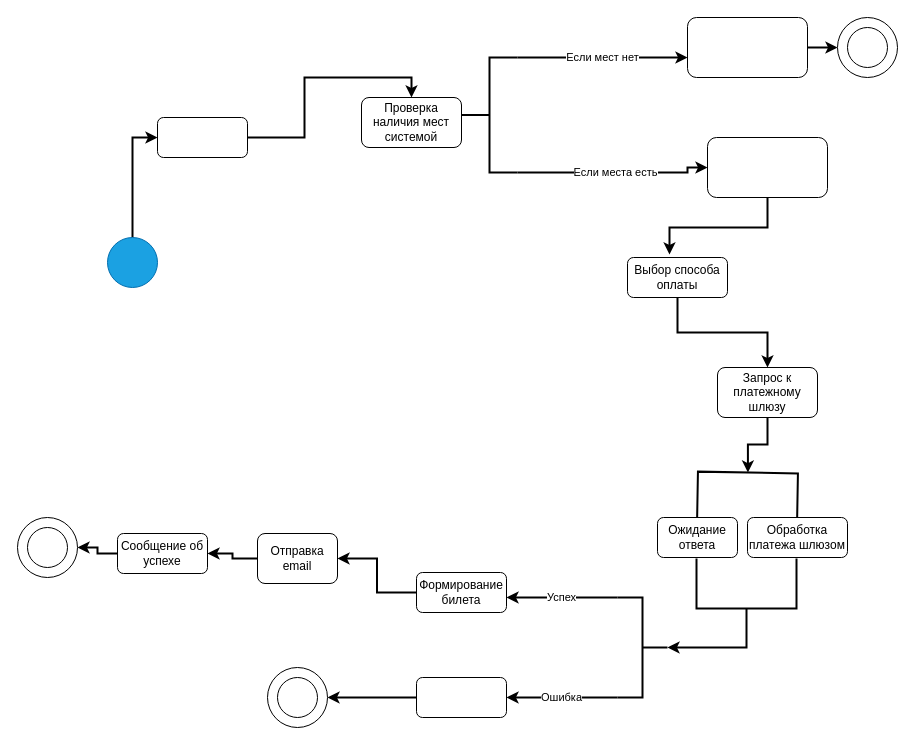
The diagram is 915 pixels wide and 745 high, and some of its shapes have lost their labels. Here are the shapes that lost their labels. From the top down, the centre of each, then its label:
(747,47): Сообщение: "Мест нет"
(202,137): Выбор рейса пассажиром
(767,167): Расчет стоимости
(461,697): Сообщение об ошибке
